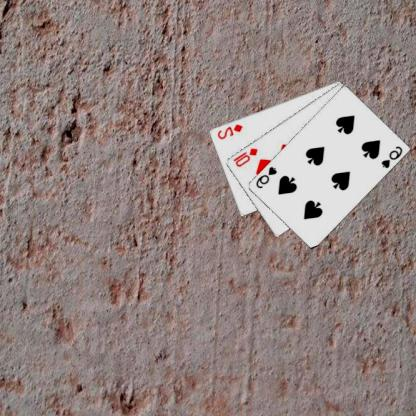10D: (232, 146, 260, 168)
2D: (216, 121, 246, 141)
6S: (380, 143, 405, 170), (255, 164, 280, 190)
